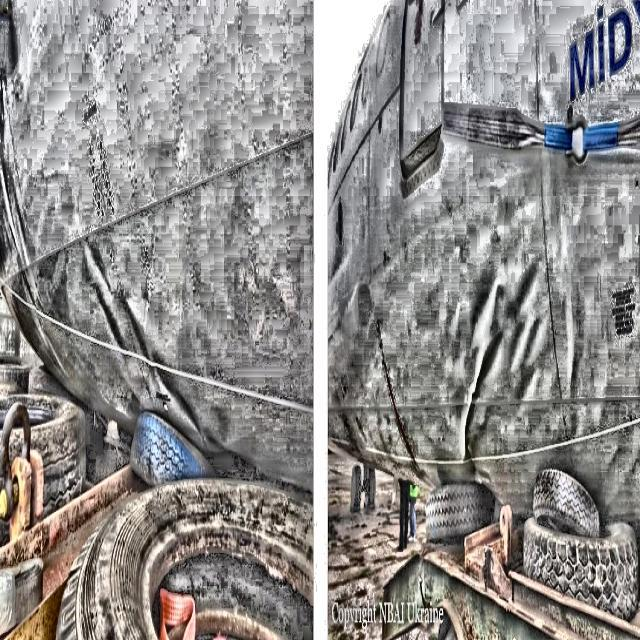dent: (91, 241, 202, 437), (458, 262, 540, 467)
